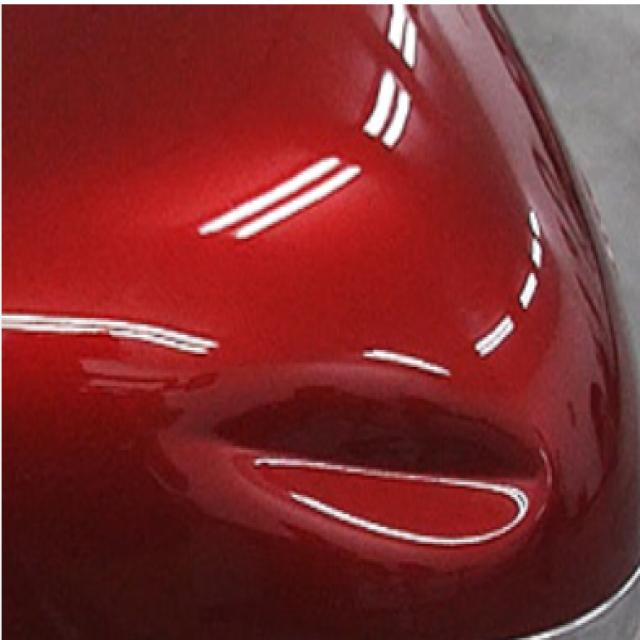dents: (206, 387, 551, 563)
